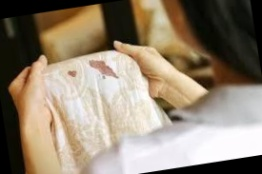blood: (89, 56, 118, 79), (68, 69, 79, 79)
